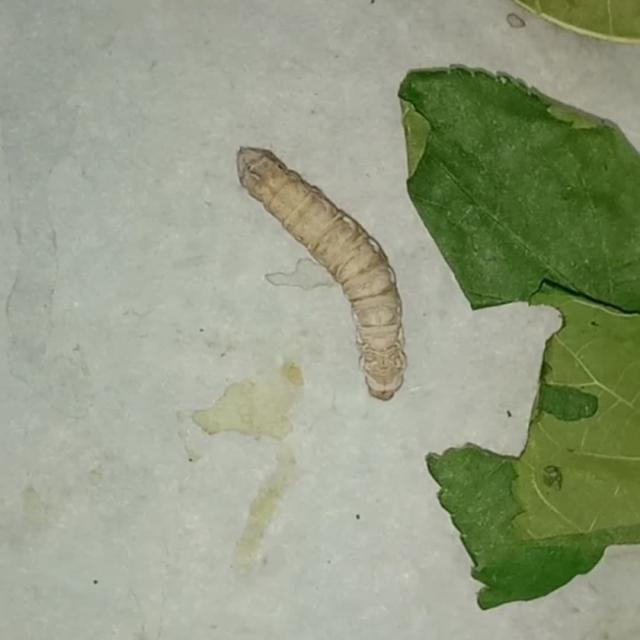Grasserie: (205, 101, 439, 414)
